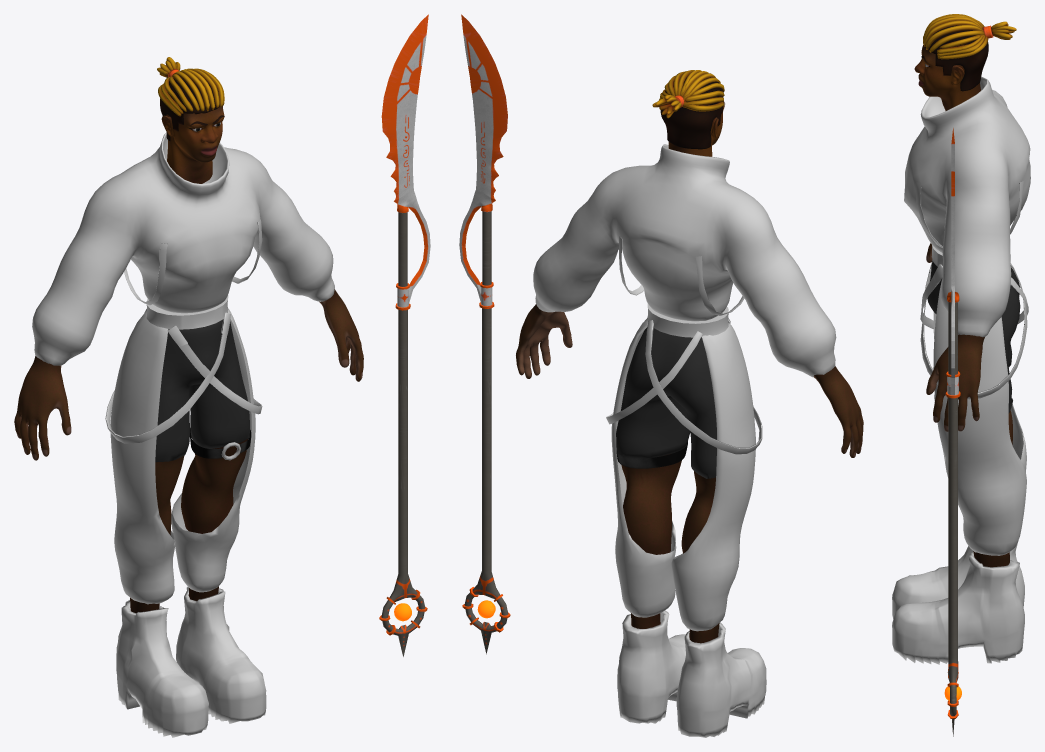
The picture shows the model from 3 angles, left to right: view 1: azimuth 30°, elevation 25°; view 2: azimuth 150°, elevation 25°; view 3: azimuth 270°, elevation 25°; orthographic projection. The views are drawn at different scales.
Parts seen in each view (by area): view 1: pull_low, pantalon_low, CH_low, Lance1_low, short_low, main_low, legs_low, face_low, strap_bas_low, dreads_haut_low, ceinture_low, strap_haut_low (+1 smaller); view 2: pull_low, pantalon_low, CH_low, Lance1_low, short_low, legs_low, main_low, strap_bas_low, cheveux_low, dreads_haut_low, ceinture_low, strap_low (+1 smaller); view 3: pull_low, pantalon_low, CH_low, Lance1_low, main_low, dreads_haut_low, face_low, strap_bas_low, cheveux_low, short_low, legs_low, strap_haut_low (+1 smaller).
Part boxes in pixels (x1,y1,x2,y2): pull_low: (32,132,334,365); pantalon_low: (110,309,255,604); CH_low: (116,587,266,737); Lance1_low: (379,14,430,656); short_low: (155,319,249,462); main_low: (14,289,363,460); legs_low: (130,439,247,613); face_low: (161,106,224,183); strap_bas_low: (105,309,262,443); dreads_haut_low: (158,68,224,116); ceinture_low: (146,295,228,329); strap_haut_low: (124,219,262,305); pull_low: (533,144,836,377); pantalon_low: (611,318,755,631); CH_low: (617,610,766,737); Lance1_low: (459,14,510,654); short_low: (616,327,716,478); legs_low: (621,454,719,643); main_low: (516,304,863,457); strap_bas_low: (606,318,762,454); cheveux_low: (660,77,723,149); dreads_haut_low: (659,70,724,111); ceinture_low: (647,303,728,337); strap_low: (616,442,687,468); pull_low: (904,77,1030,337); pantalon_low: (933,279,1026,555); CH_low: (892,541,1024,664); Lance1_low: (944,128,961,736); main_low: (926,243,984,431); dreads_haut_low: (923,14,988,59); face_low: (914,45,980,110); strap_bas_low: (920,260,1028,399); cheveux_low: (925,25,988,91); short_low: (927,261,1020,403); legs_low: (973,410,1012,567); strap_haut_low: (916,181,1023,247).
Size of the model in its own units: 135 by 204 by 41.01.
